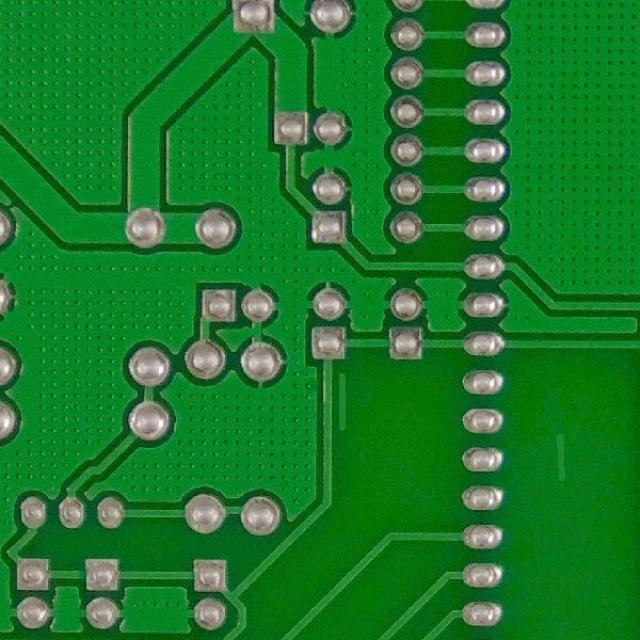spurious_copper: (548, 426, 580, 488), (336, 370, 358, 433)
